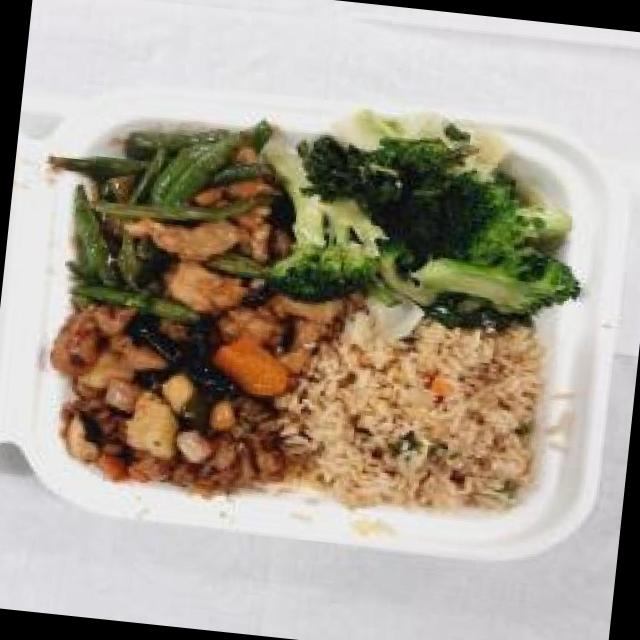Fried Rice: (282, 300, 560, 526)
Kung Pao Chicken: (36, 307, 312, 511)
String Bean Chicken Breast: (49, 110, 299, 338)
Super Greens: (273, 98, 592, 346)
